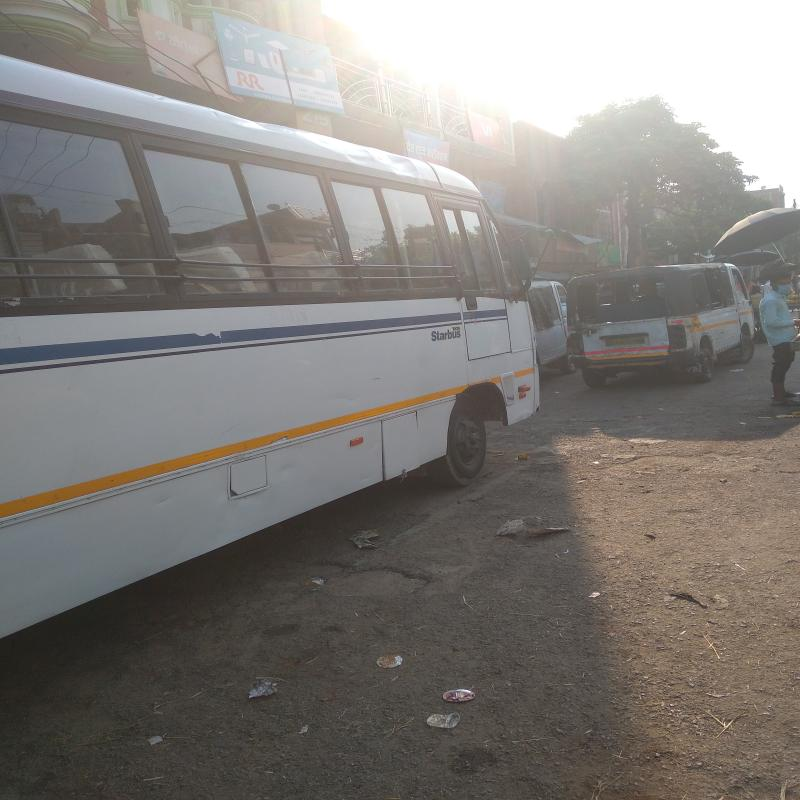bus: (0, 58, 538, 542)
